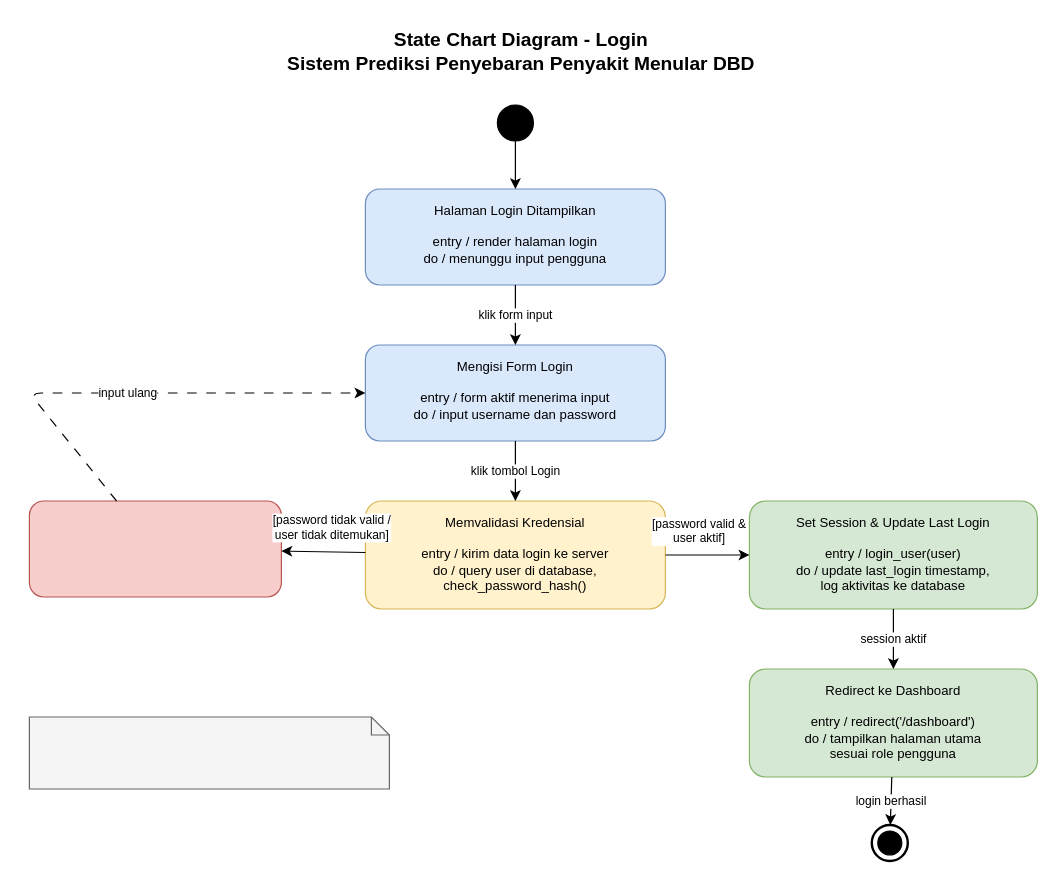
Image size: 1058x882. Some labels were removed from this diagram. Each missing label, with the box of its shape:
Aktor: Pengguna (Admin / Petugas) Objek: Login Page → Auth Controller → Database: (28, 716, 389, 789)
Login Gagal entry / tampilkan pesan error do / menunggu input ulang: (28, 500, 281, 597)
